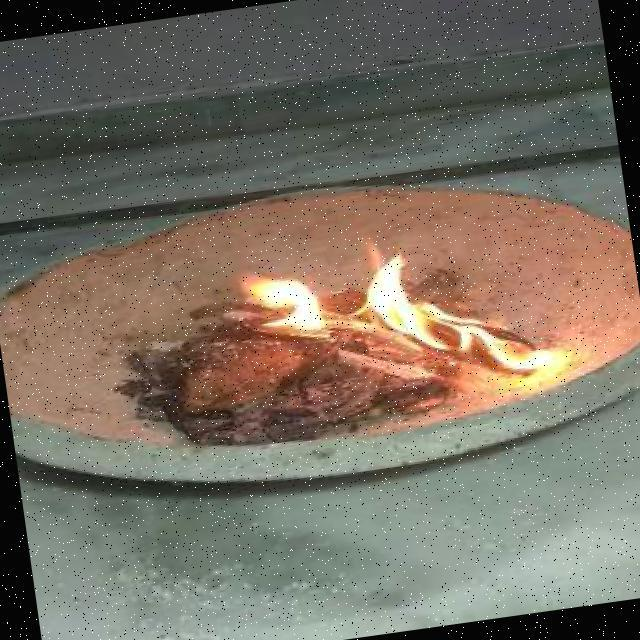Fire: (230, 208, 572, 431)
